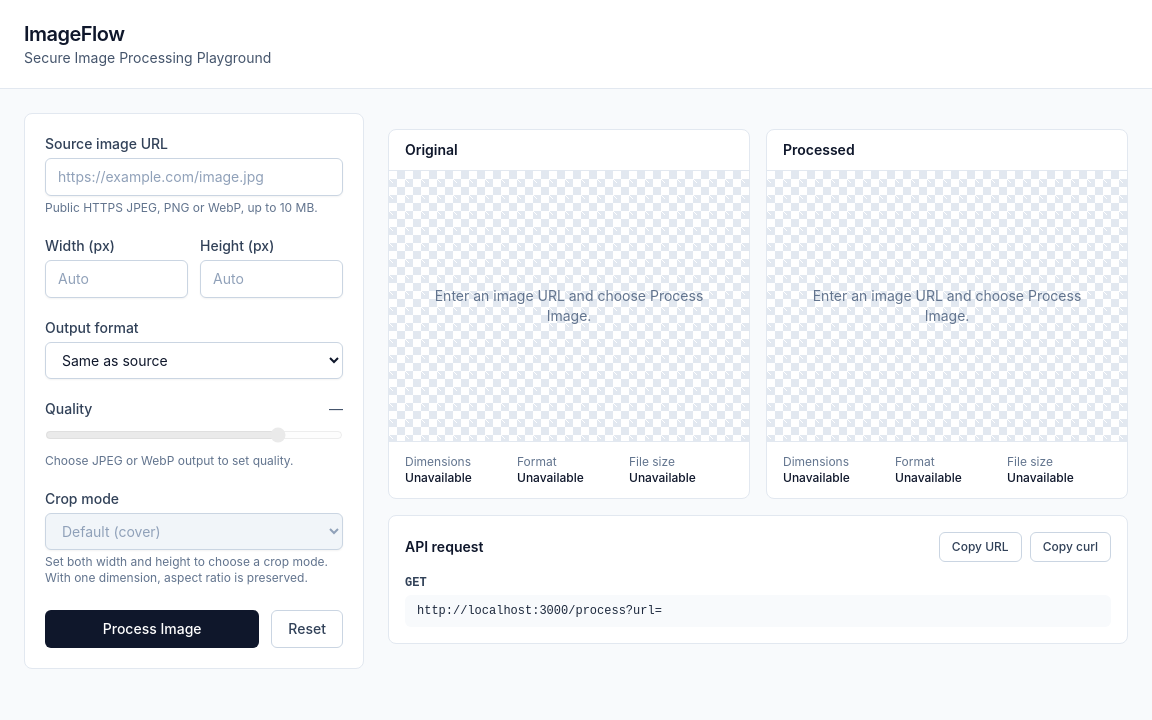
Scenario: App › copies the curl command and resets the form
The width and height of the screenshot is (1152, 720).
Type "https://e.com/a.jpg" into the field labelled "Source image URL" at (194, 177), box [45,158,343,196]
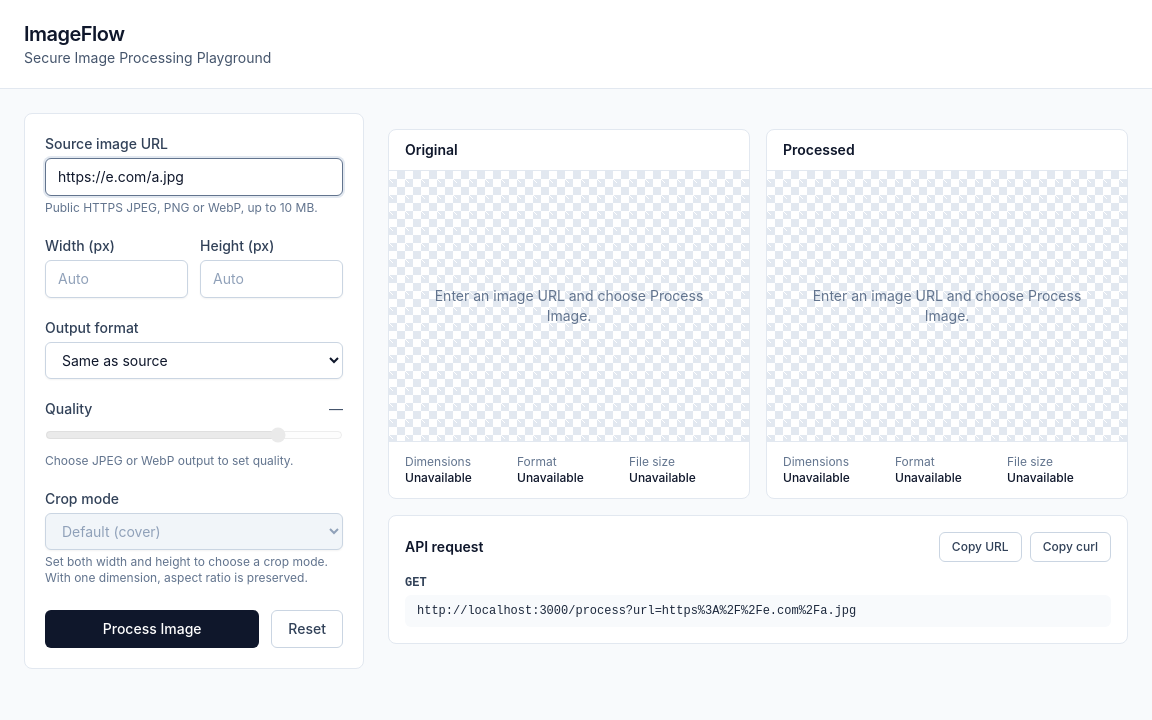
Click the button "Copy curl" at (1070, 547), box [1030,532,1111,562]
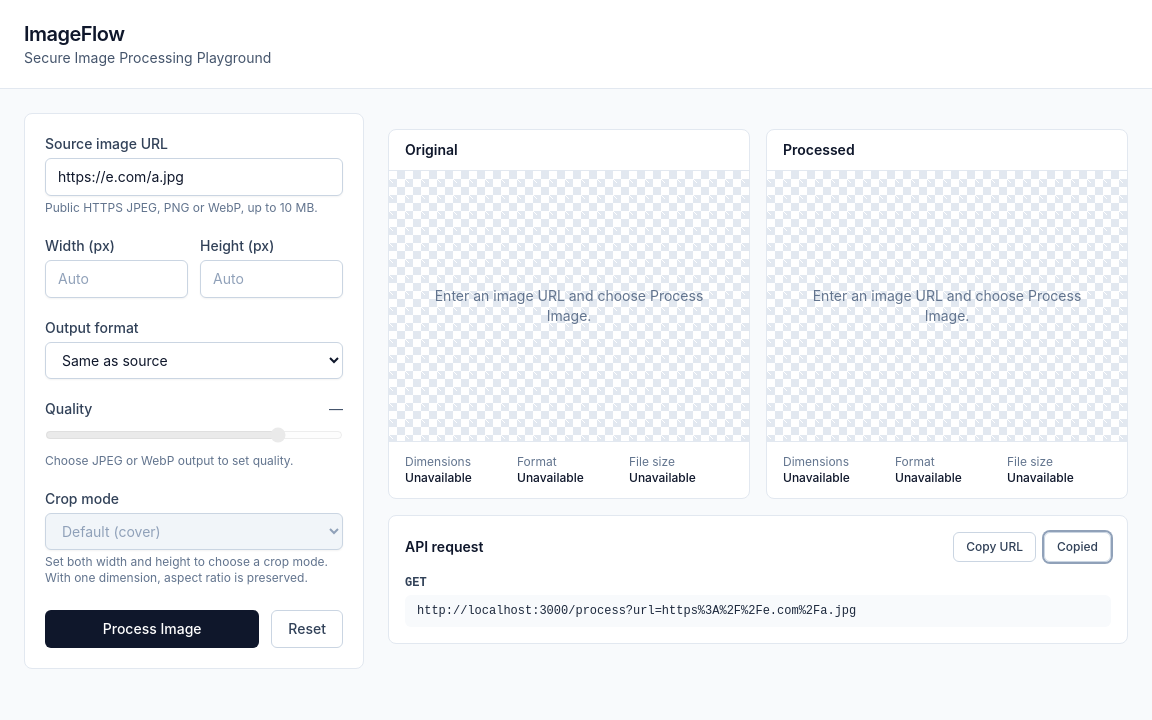
Expected: the button "Copied" is shown, [1044,532,1111,562]
Click the button "Reset" at (307, 629), box [271,610,343,648]
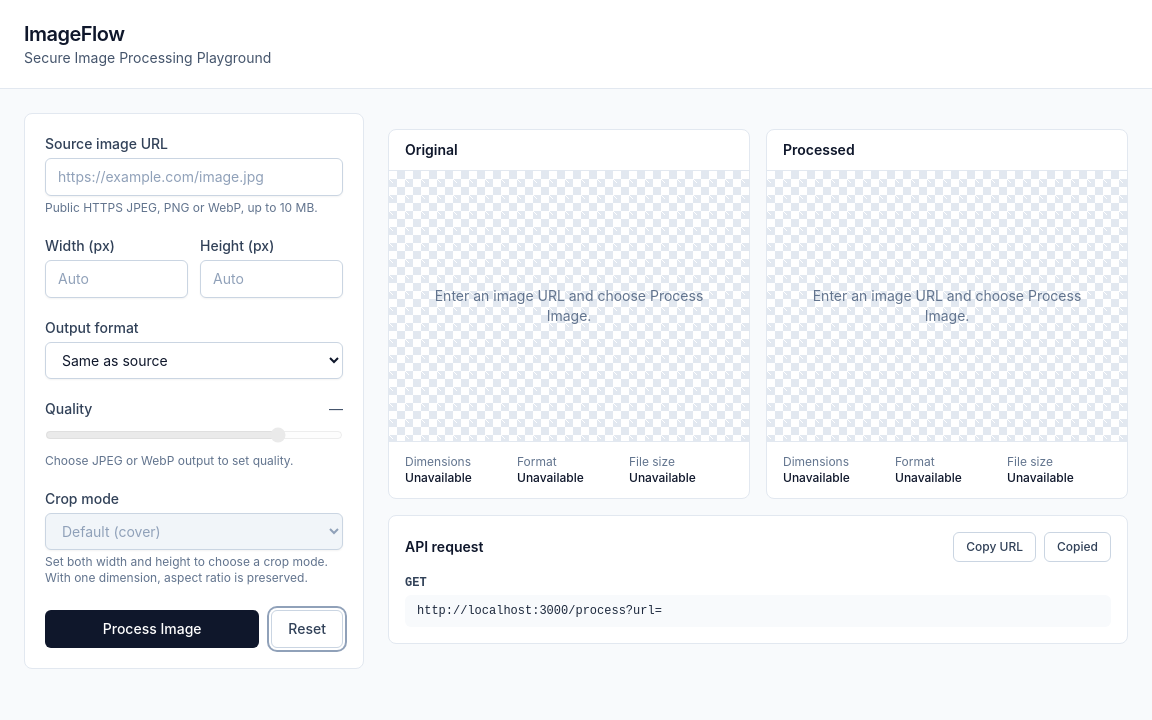
Expected: the field labelled "Source image URL" is empty, [45,158,343,196]
